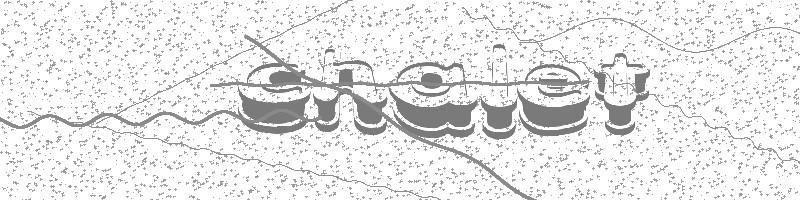a: (388, 61, 478, 138)
c: (236, 60, 309, 134)
e: (517, 62, 591, 138)
h: (313, 48, 388, 135)
l: (480, 43, 517, 141)
t: (593, 51, 651, 136)
